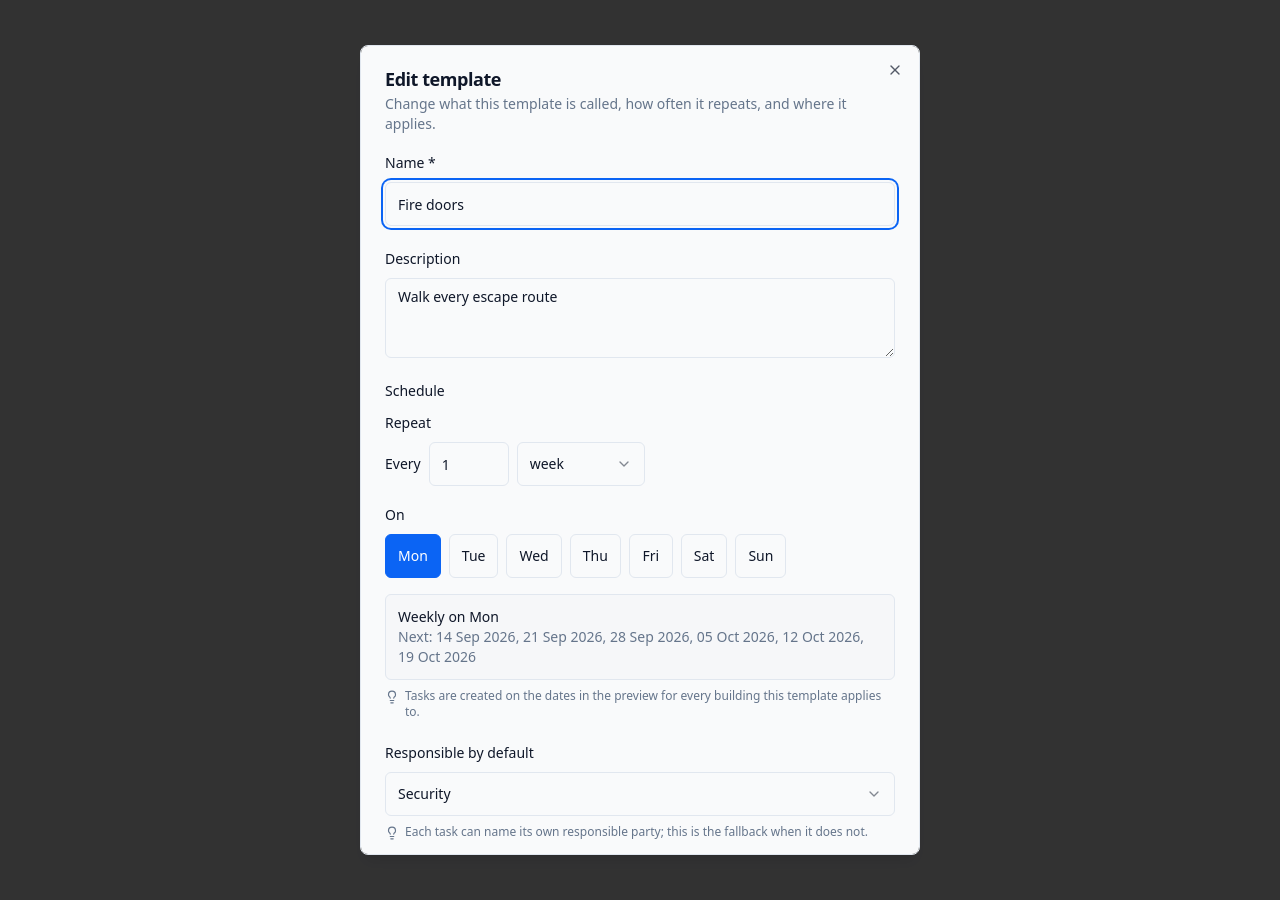
TemplateDialog › singular count, and the countless sentence when the head-count fails
Click the button with aria-label "Wednesday": (534, 556) [506,534,562,578]
(page scrolled)
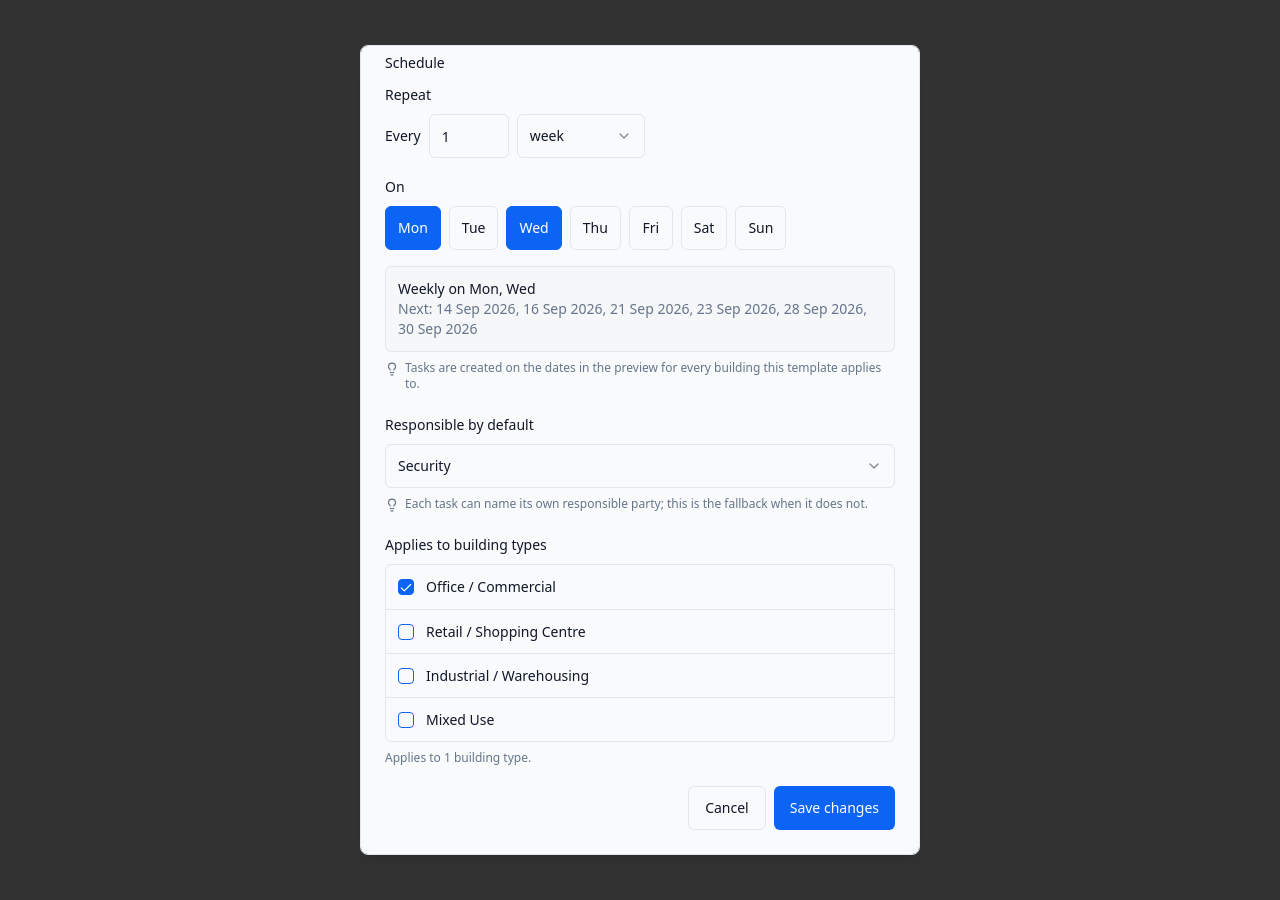
Click the button "Save changes": (834, 808) [774,786,895,830]
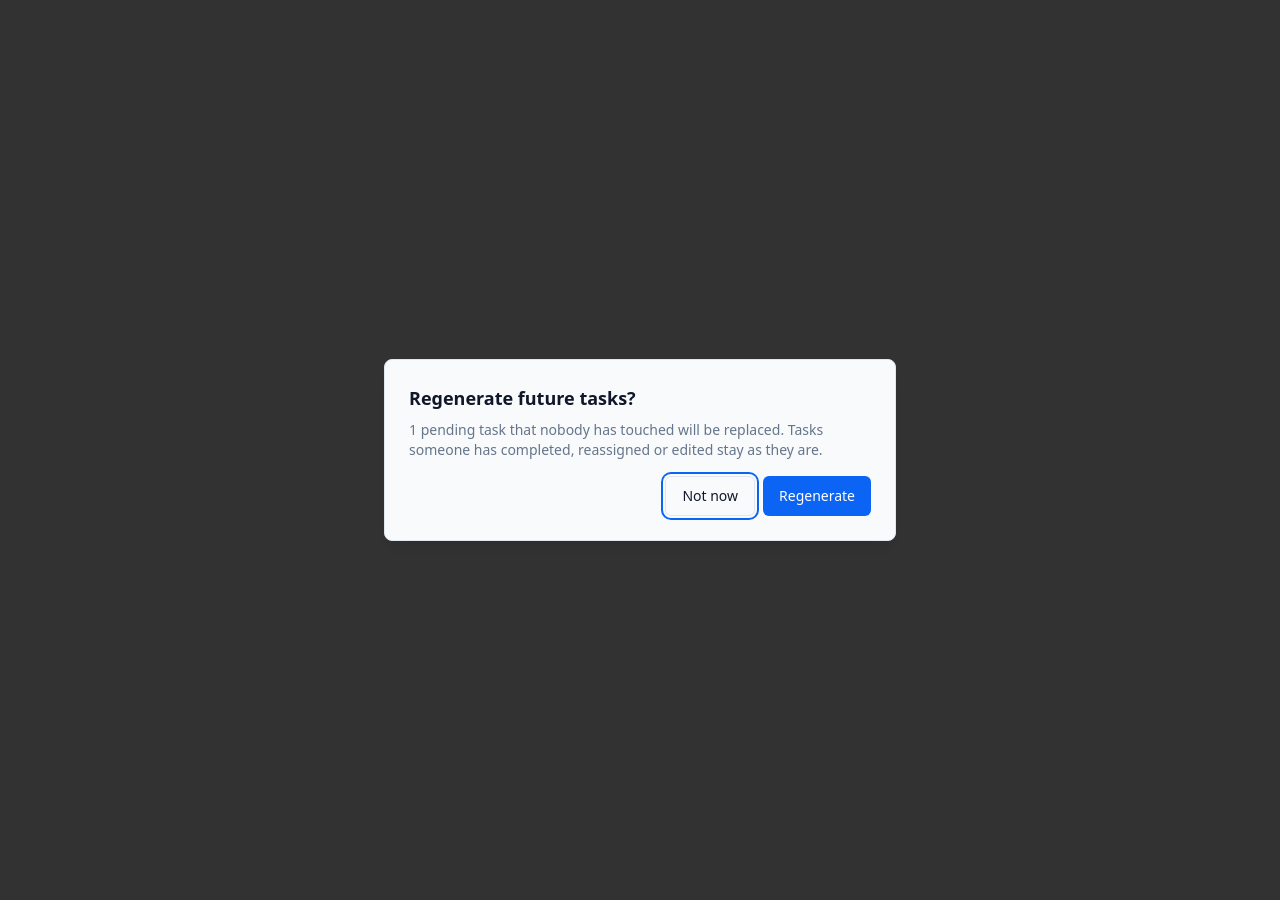
Result: the text "1 pending task that nobody has touched will be replaced" is shown at [409,420,784,439]
